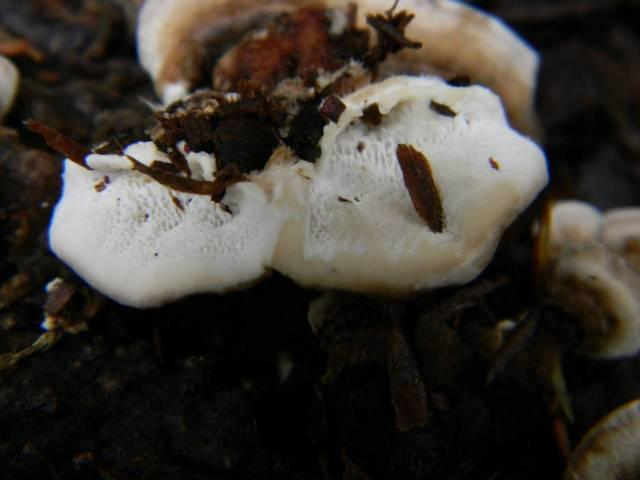poisonous_mushroom: (30, 1, 551, 309)
